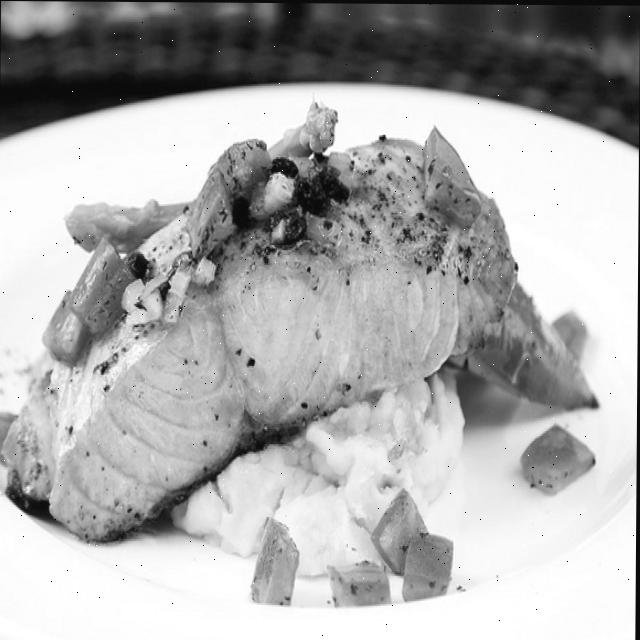熟制海鲜: (0, 54, 626, 625)
